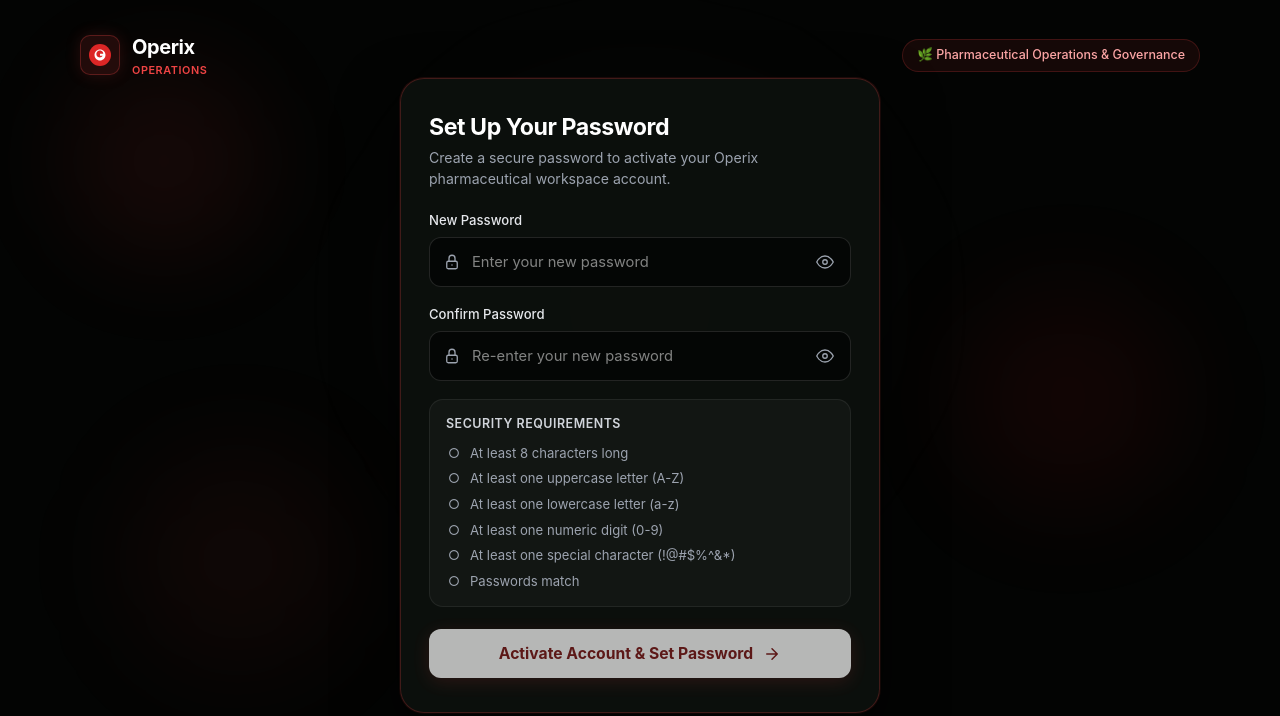
Test: SetupPasswordPage › submits compliant password and shows success state
Type "CompliantPassword123!" into the password field labelled "New Password".
click(640, 262); type("CompliantPassword123!")  # box [429,237,851,287]
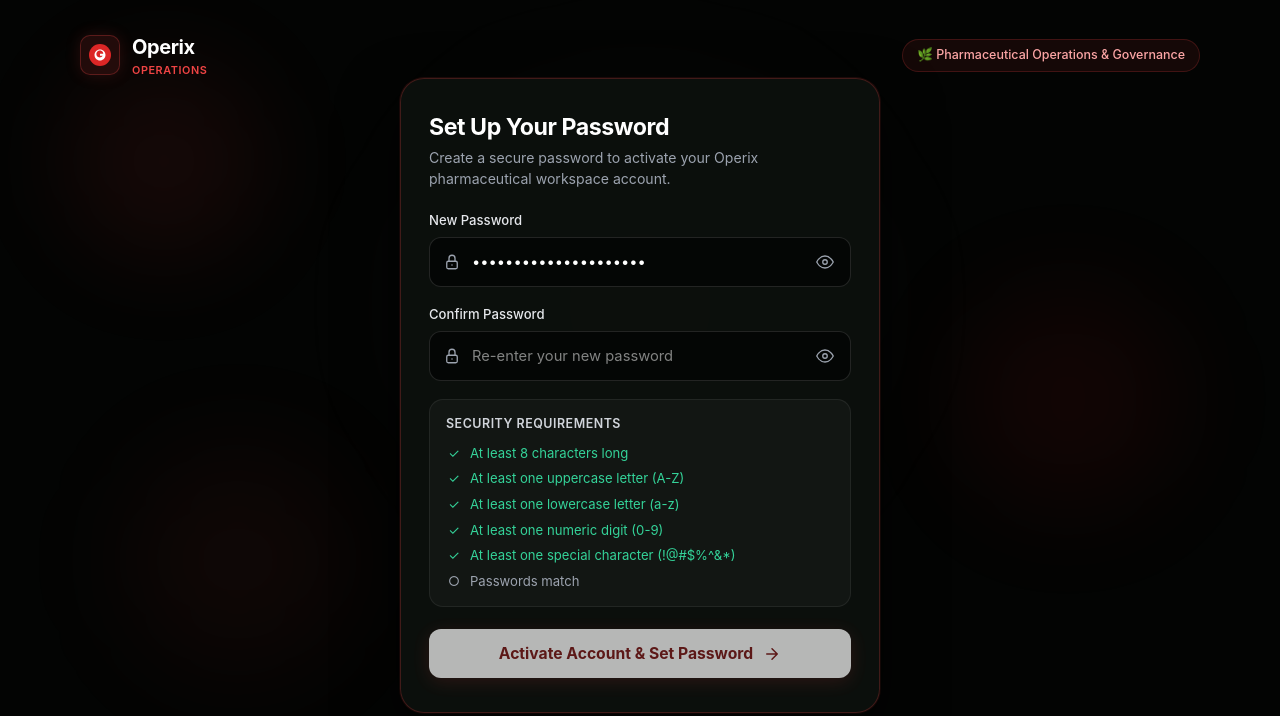
Type "CompliantPassword123!" into the password field labelled "Confirm Password".
click(640, 356); type("CompliantPassword123!")  # box [429,331,851,381]
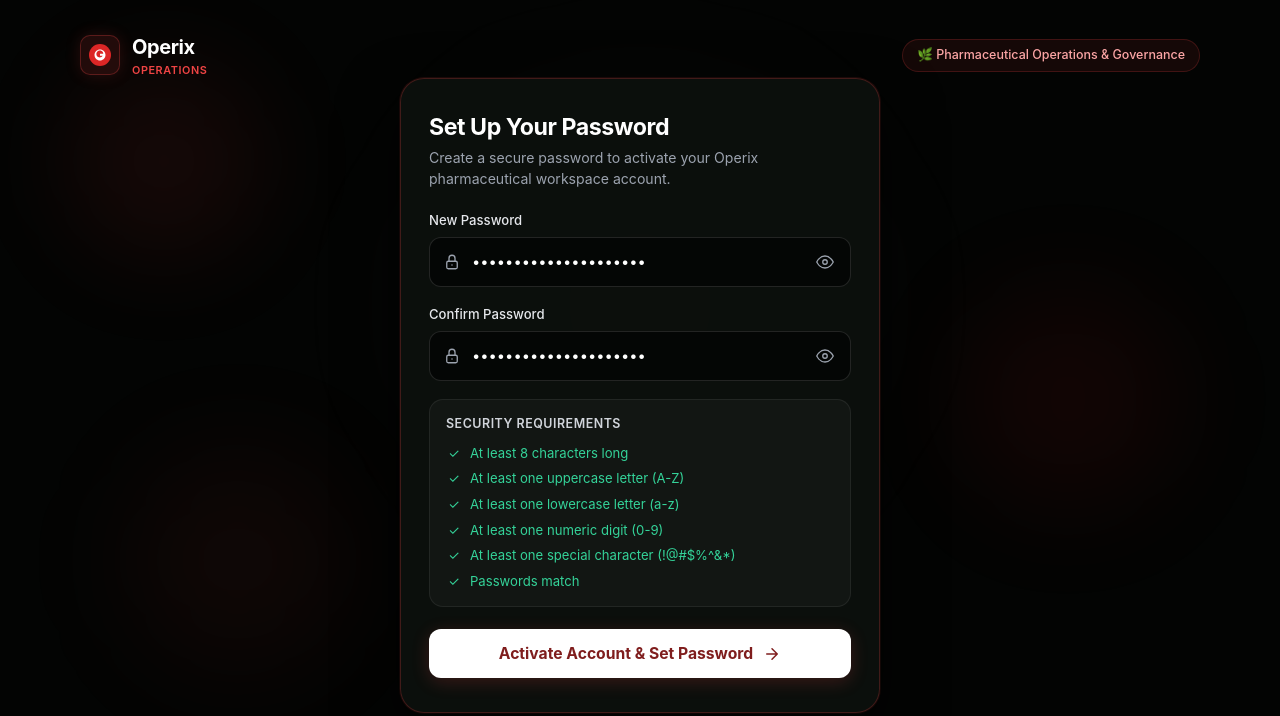
Result: the button "Activate Account & Set Password" is enabled
Click the button "Activate Account & Set Password".
click(640, 654)  # box [429,629,851,678]
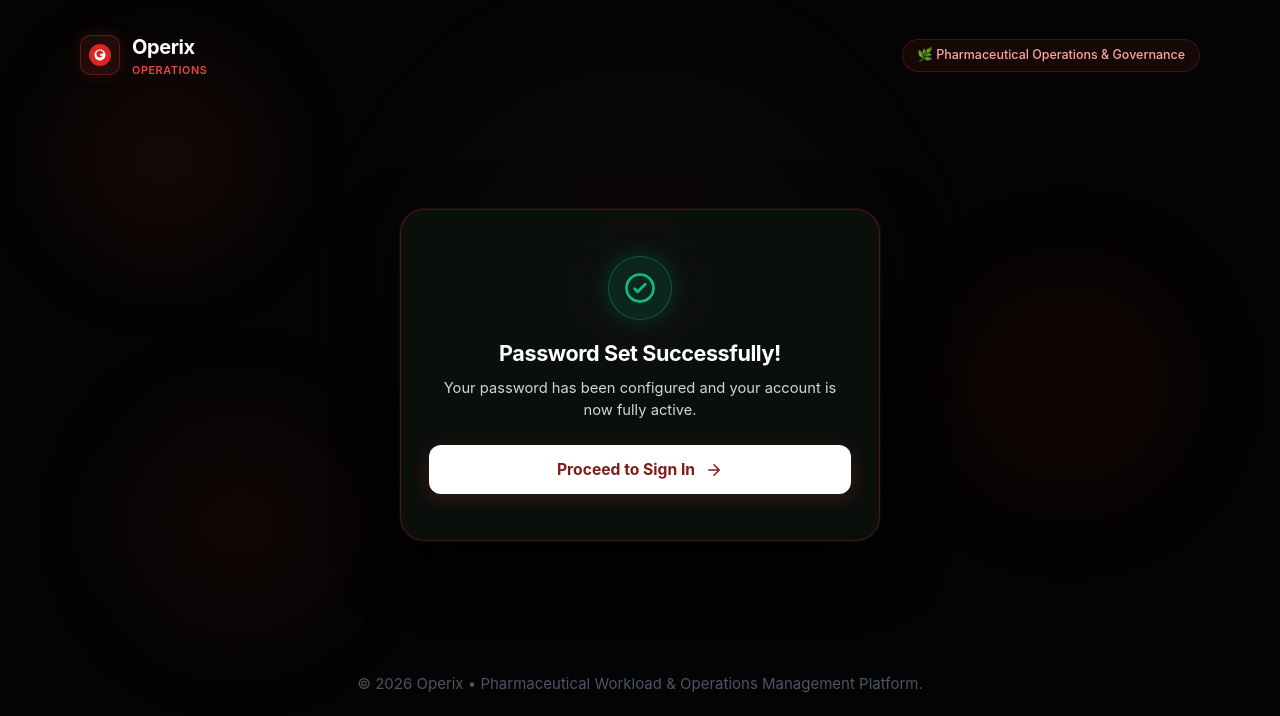
Result: the heading "Password Set Successfully!" is shown at [499,340,781,367]
Result: the text "Proceed to Sign In" is shown at [557,458,695,482]
